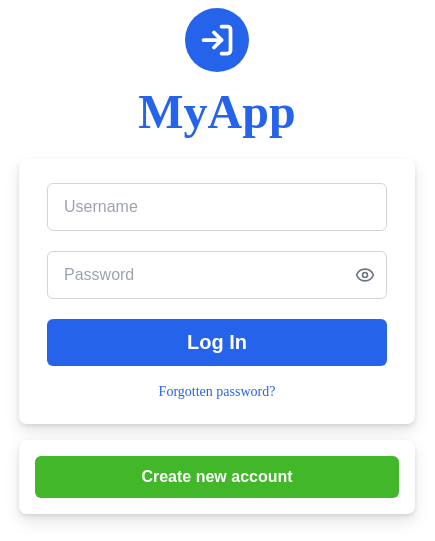
LoginCard Component › shows loading state during submission
Type "johndoe" into the field with placeholder "Username" at (217, 207), box x1=47 y1=183 x2=387 y2=231
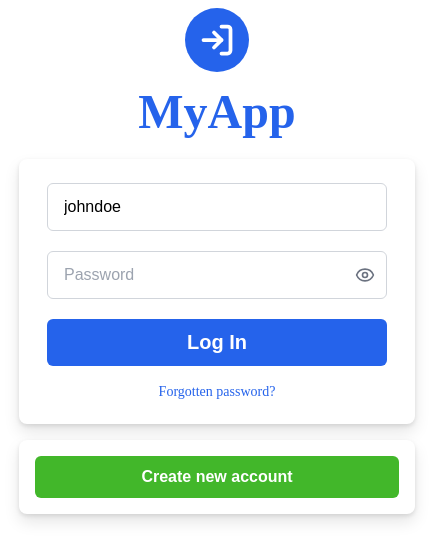
Type "password123" into the password field with placeholder "Password" at (217, 275), box x1=47 y1=251 x2=387 y2=299
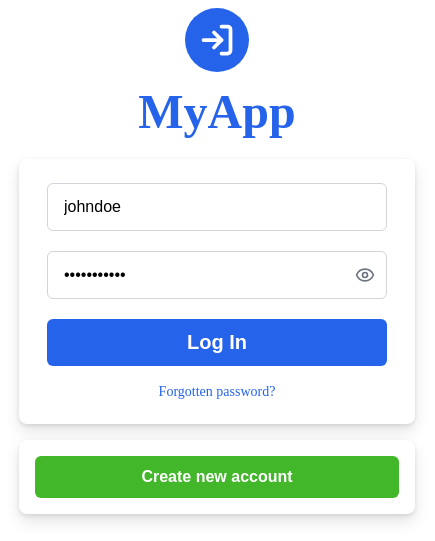
Click the button "Log In" at (217, 342), box x1=47 y1=319 x2=387 y2=366
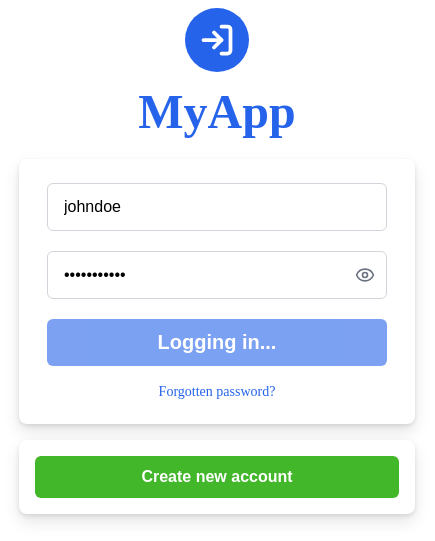
Check: the button "Logging in..." is shown, box x1=47 y1=319 x2=387 y2=366
